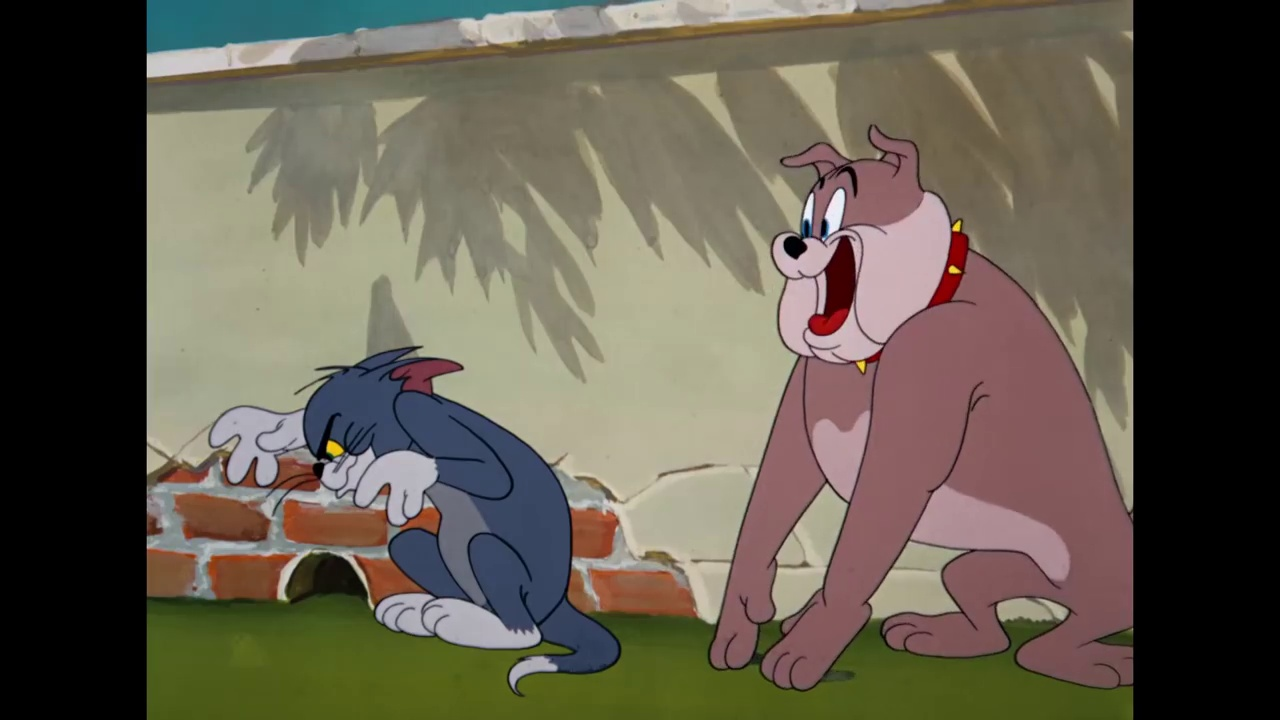spike: (769, 123, 976, 378)
tom: (287, 343, 471, 494)
